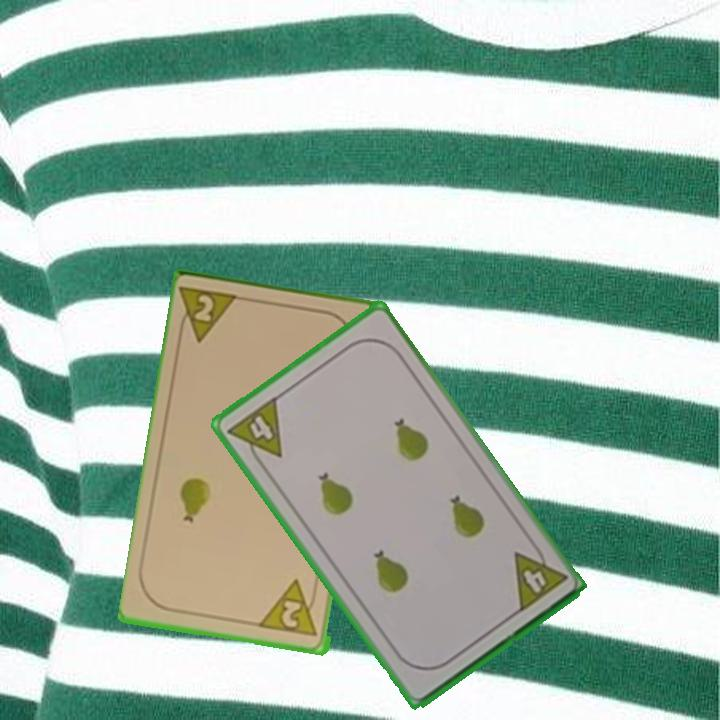2p: (175, 283, 245, 347), (258, 577, 321, 640)
4p: (224, 392, 285, 472), (509, 538, 570, 616)
